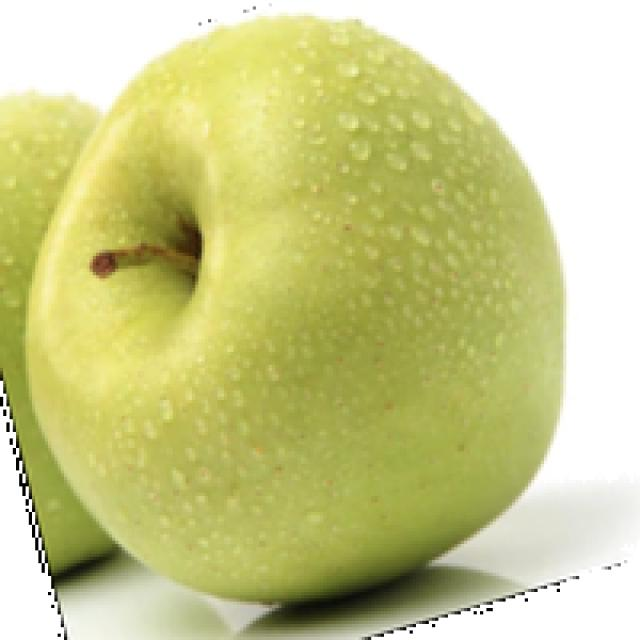apple: (0, 1, 582, 637)
